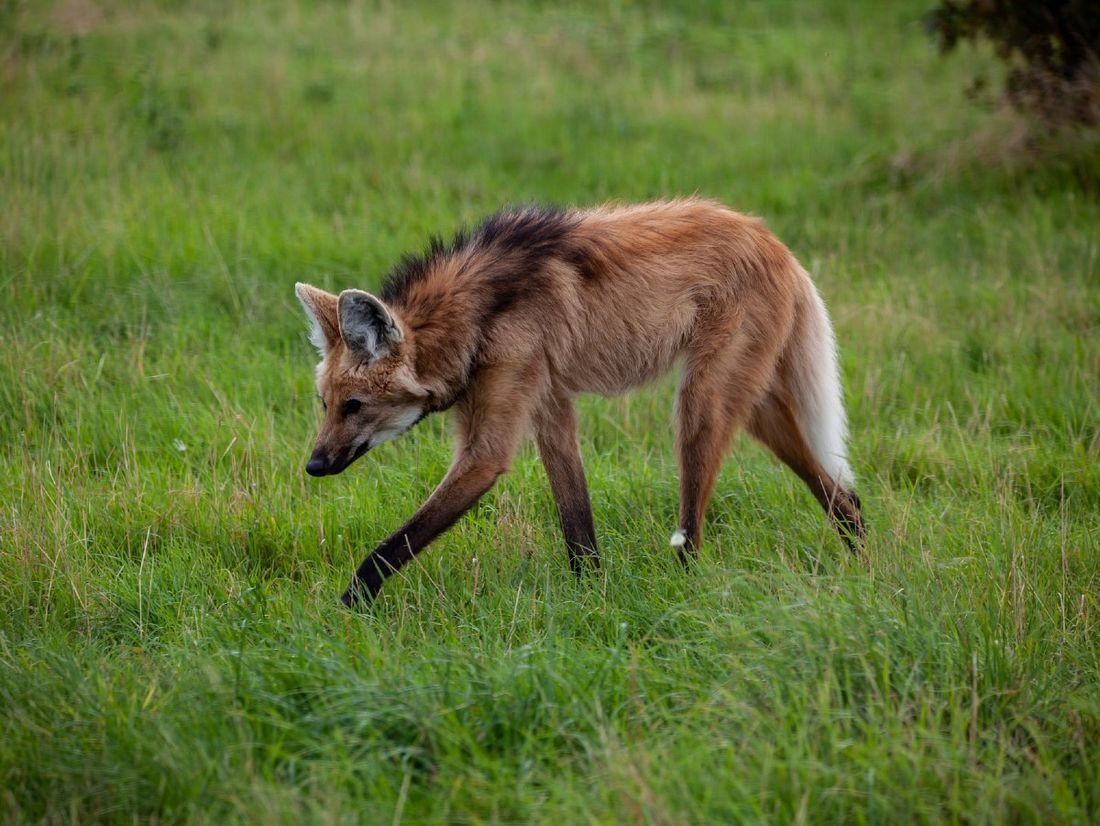LoboGuara: (282, 191, 886, 606)
